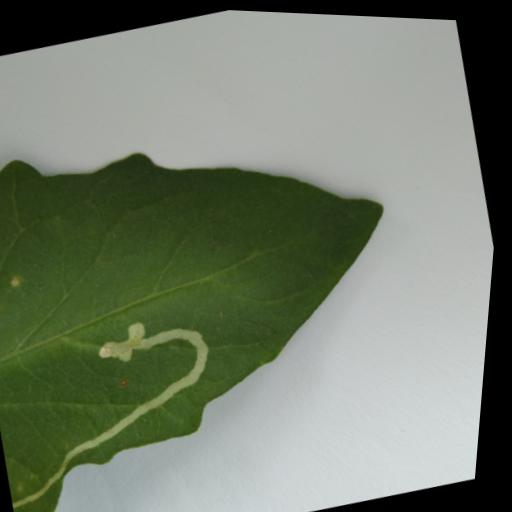Leaf_Miner: (0, 249, 310, 512)
